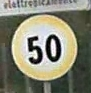limite 50: (9, 13, 79, 82)
